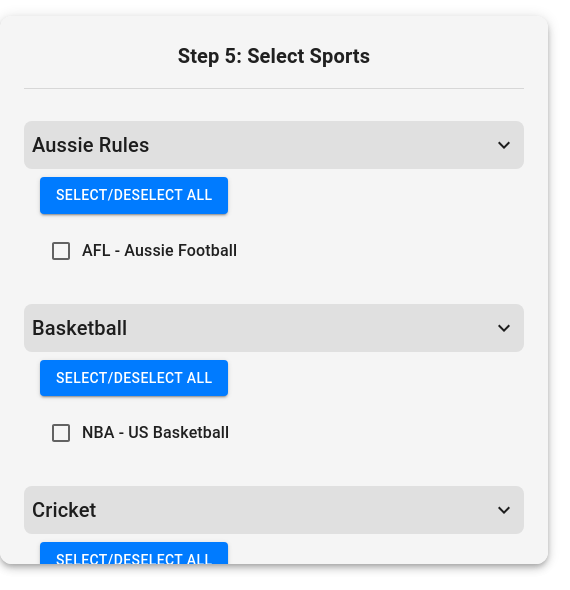
Test: SelectSports Component › handles group collapse
This screenshot has width=570, height=590.
Step 1. Click the heading "Aussie Rules" → [274, 145], box [24, 121, 524, 169]
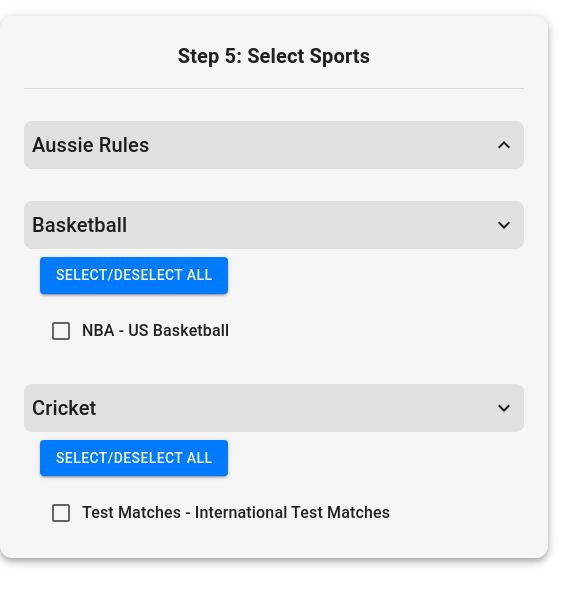
Check: the text "AFL - Aussie Football" is gone
